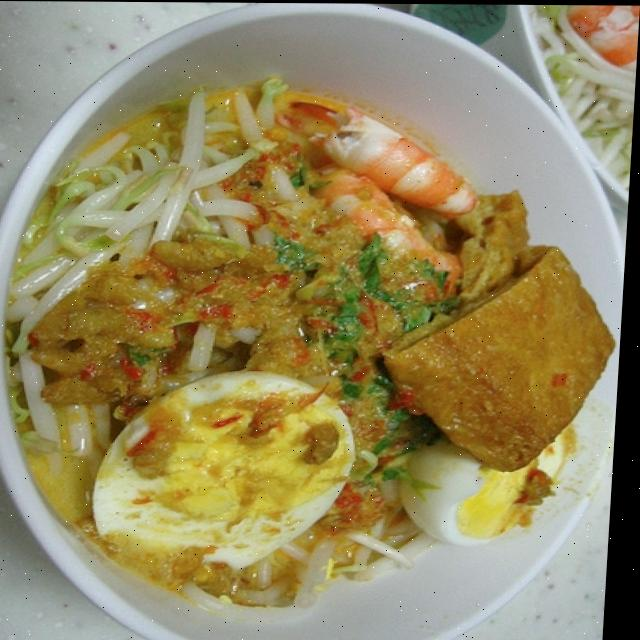面条主食: (0, 77, 619, 609)
